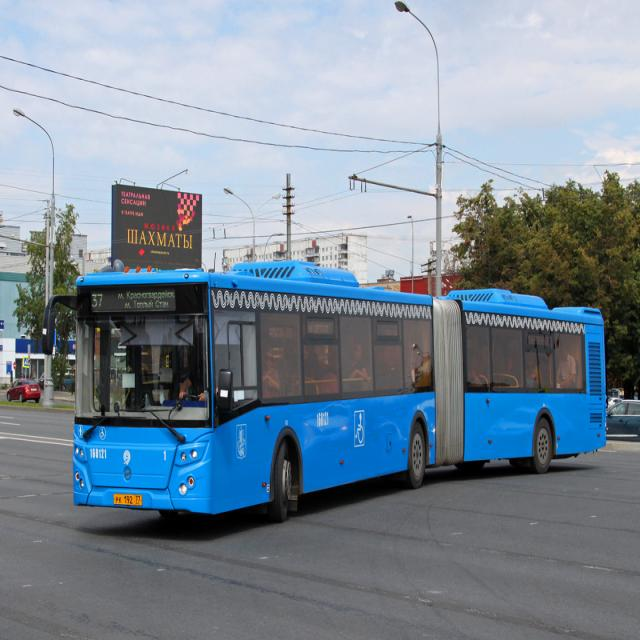number-of-bus: (93, 294, 105, 310)
